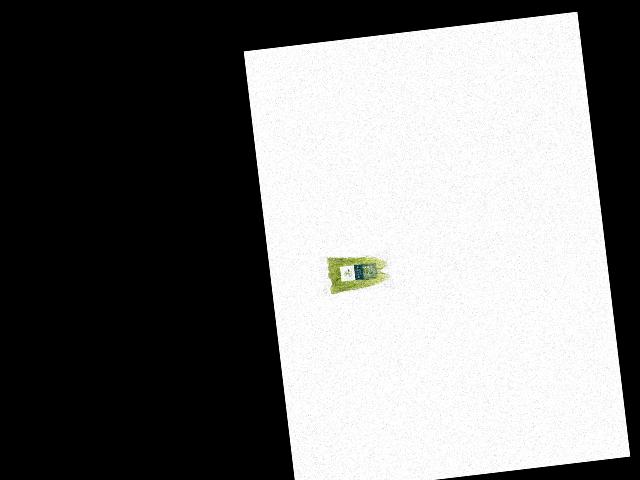lettuce: (324, 250, 392, 299)
